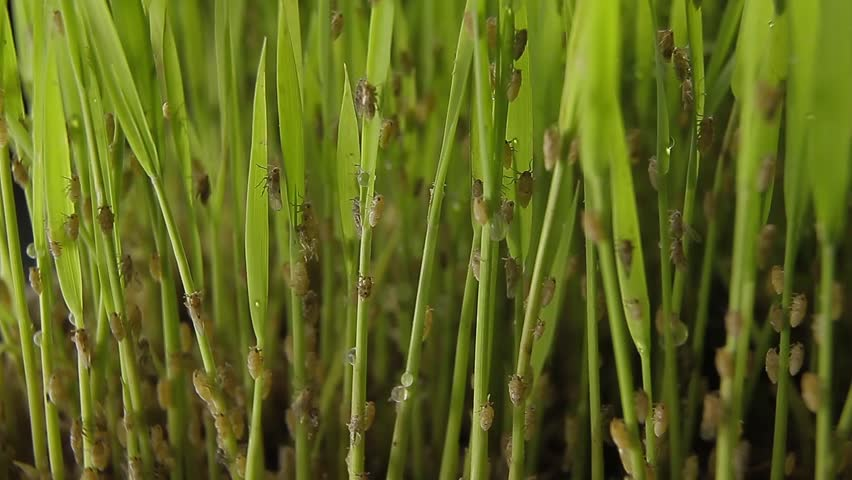Brown_hopper: (181, 354, 231, 409), (348, 73, 386, 123), (664, 202, 689, 275), (21, 258, 56, 301), (259, 163, 286, 215), (64, 327, 98, 365), (464, 179, 492, 225), (511, 168, 539, 212), (111, 258, 146, 292), (354, 272, 385, 310), (178, 293, 214, 325), (241, 348, 271, 386), (506, 370, 533, 412), (614, 234, 640, 277), (6, 154, 32, 193), (542, 120, 562, 170), (791, 289, 813, 333), (757, 153, 779, 197), (478, 397, 502, 435), (655, 28, 678, 67), (367, 189, 386, 236), (763, 344, 782, 390), (62, 176, 88, 208), (64, 212, 90, 244), (682, 73, 699, 120), (513, 19, 528, 70), (670, 45, 693, 77), (330, 5, 347, 40)
